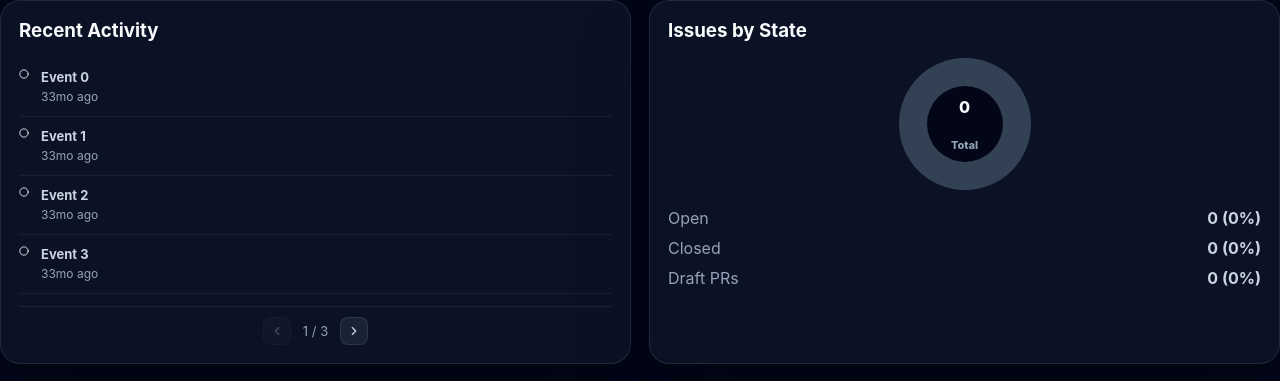
Test: RightPanel › Recent Activity › should paginate activity events
Expected: the text "Event 0" is shown, [41, 69, 89, 85]
Expected: the text "Event 3" is shown, [41, 246, 88, 262]
Navigate to next page - get all buttons and click the last one (next button)
Click the 2nd button. click: (354, 331)
box: [340, 317, 368, 345]
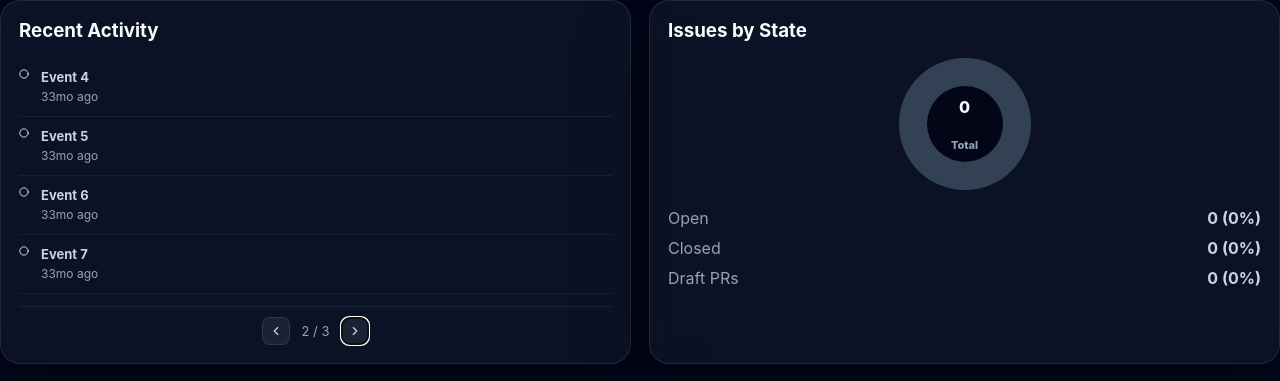
Expected: the text "Event 4" is shown, [41, 69, 89, 85]
Expected: the link "Event 0" is gone
